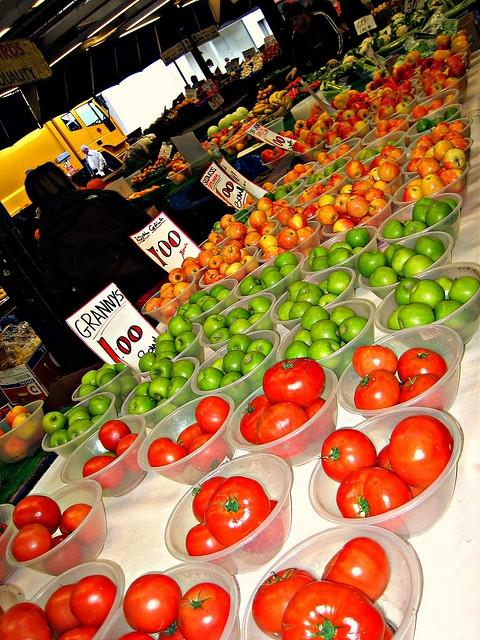apple: (410, 280, 446, 311), (398, 302, 434, 329), (357, 250, 388, 278), (448, 276, 480, 303), (166, 376, 194, 406), (414, 235, 445, 262), (391, 248, 417, 278), (310, 319, 341, 344), (340, 316, 368, 343), (402, 255, 434, 278), (394, 278, 420, 306), (426, 202, 454, 228), (368, 266, 399, 287), (434, 300, 464, 321), (240, 352, 266, 376), (327, 270, 351, 296), (168, 314, 193, 338), (261, 271, 285, 296), (297, 284, 324, 306), (67, 419, 94, 441), (346, 194, 370, 218), (280, 264, 304, 288), (223, 350, 246, 374), (148, 377, 170, 402), (345, 227, 370, 249), (6, 405, 31, 427), (420, 174, 445, 196), (327, 247, 354, 267), (99, 372, 120, 397), (387, 304, 407, 330), (226, 308, 252, 328), (377, 160, 400, 182), (287, 281, 309, 303), (318, 204, 340, 226), (433, 140, 454, 163), (170, 360, 194, 380), (435, 277, 455, 300), (402, 220, 428, 237), (278, 228, 298, 250), (308, 246, 328, 268), (229, 318, 252, 337), (383, 220, 407, 238), (222, 244, 242, 264), (68, 410, 90, 428), (155, 340, 178, 357), (334, 193, 352, 214), (328, 241, 353, 256), (403, 184, 423, 202), (12, 412, 32, 430), (182, 304, 204, 320), (412, 204, 430, 223), (169, 268, 187, 286), (250, 210, 268, 228), (208, 284, 229, 298), (311, 256, 329, 272), (244, 231, 262, 247), (210, 358, 226, 374), (378, 104, 394, 120), (82, 370, 98, 386), (426, 82, 443, 96), (160, 286, 176, 300), (444, 108, 461, 121), (416, 156, 434, 168), (378, 154, 396, 166), (326, 174, 344, 186), (448, 120, 466, 132), (412, 106, 428, 119), (406, 158, 420, 172), (216, 289, 230, 303), (398, 92, 414, 104), (368, 166, 380, 182), (342, 126, 358, 138), (396, 80, 412, 92), (208, 232, 224, 243), (196, 296, 213, 306), (304, 132, 316, 145), (274, 190, 288, 201), (318, 280, 329, 294), (90, 414, 104, 424), (299, 143, 311, 153), (286, 172, 298, 182), (246, 227, 259, 236), (434, 121, 450, 128), (359, 150, 370, 160), (316, 184, 327, 194), (331, 122, 341, 132), (239, 249, 250, 258), (352, 246, 363, 255), (314, 174, 326, 182), (224, 225, 231, 238), (306, 155, 317, 163), (378, 130, 389, 138), (294, 207, 306, 214), (437, 168, 447, 176), (340, 144, 352, 150), (278, 247, 288, 254), (388, 126, 398, 133), (321, 158, 332, 164), (373, 114, 380, 122)
banana: (252, 106, 268, 115), (252, 104, 266, 112), (277, 90, 288, 100), (272, 98, 286, 105), (268, 94, 274, 104), (286, 101, 292, 111), (271, 104, 279, 110), (264, 109, 273, 114), (286, 96, 290, 105), (283, 92, 288, 96)
tomato: (281, 580, 385, 640), (388, 414, 454, 488), (204, 476, 271, 546), (321, 537, 390, 603), (252, 568, 317, 638), (336, 466, 414, 518), (122, 573, 182, 634), (315, 429, 377, 483), (262, 358, 325, 408), (177, 582, 230, 640), (68, 574, 117, 627), (254, 401, 309, 445), (240, 500, 284, 553), (44, 582, 82, 636), (0, 602, 53, 640), (59, 503, 104, 546), (354, 369, 401, 410), (13, 495, 61, 535), (238, 394, 274, 444), (398, 348, 448, 384), (40, 534, 82, 576), (192, 477, 228, 522), (188, 433, 228, 472), (11, 524, 52, 562), (82, 455, 126, 490), (352, 346, 399, 378), (195, 396, 230, 437), (186, 524, 228, 556), (398, 374, 441, 404), (147, 438, 188, 467), (98, 421, 132, 452), (176, 422, 210, 452), (56, 624, 99, 640), (116, 433, 139, 458), (302, 398, 326, 420), (376, 444, 394, 472), (158, 621, 184, 640), (118, 631, 154, 639), (0, 523, 8, 537)
